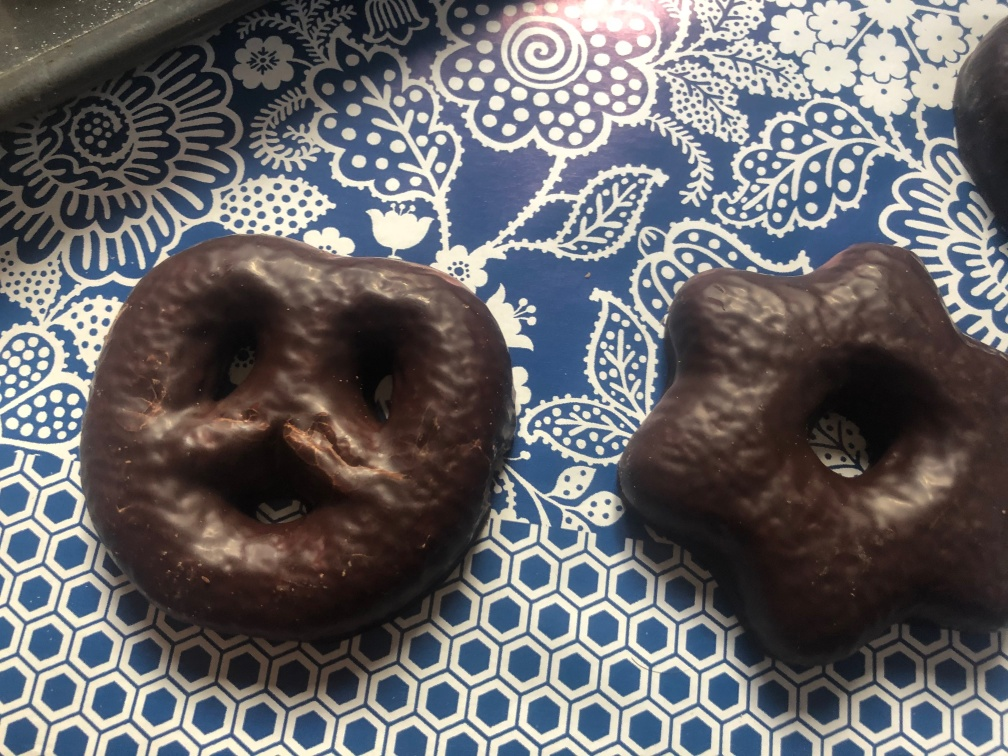bretzel: (74, 234, 517, 657)
star: (617, 240, 1008, 672)
